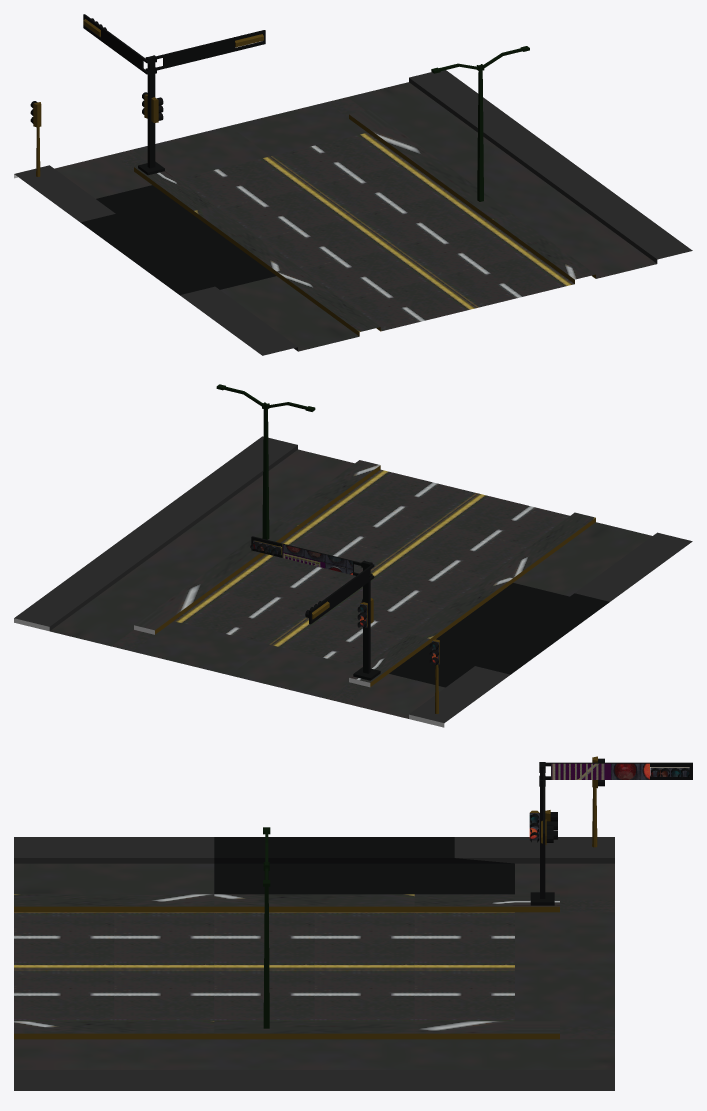
The model's file is city_pre_kfc.obj.
3 views of the same model, one above another, from view 1: azimuth 30°, elevation 25°; view 2: azimuth 150°, elevation 25°; view 3: azimuth 270°, elevation 25° (orthographic). The views are drawn at different scales.
Visible parts, largest first — view 1: city_pre_kfc_Plane.010; view 2: city_pre_kfc_Plane.010; view 3: city_pre_kfc_Plane.010.
Boxes of the visible parts, <box> form: city_pre_kfc_Plane.010: <box>14,14,692,355</box>; city_pre_kfc_Plane.010: <box>14,384,692,727</box>; city_pre_kfc_Plane.010: <box>14,756,692,1090</box>.
Bounding box in the file's own units: 1.6 × 0.5207 × 1.81.
